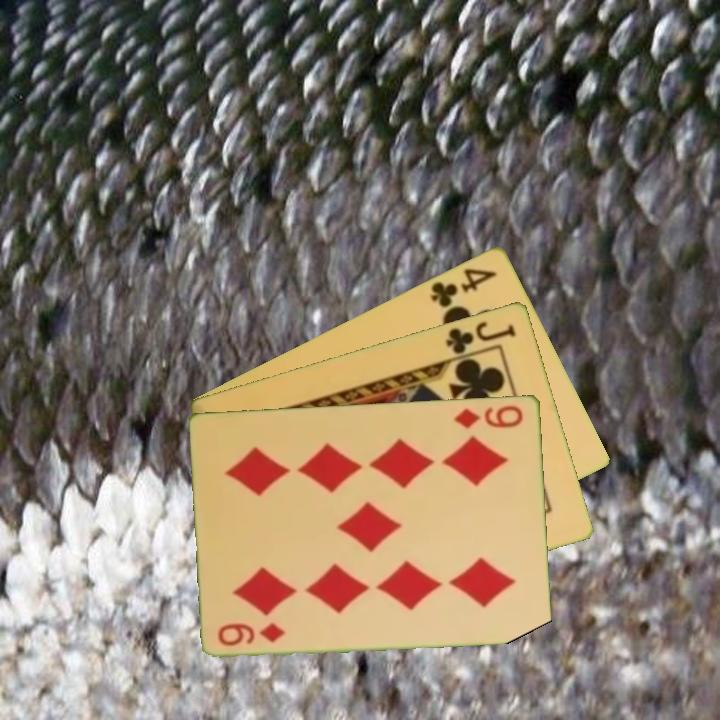4c: (428, 264, 500, 310)
9d: (451, 401, 526, 431), (214, 618, 289, 648)
Jc: (442, 317, 519, 362)
